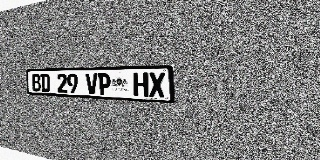plate: (26, 65, 174, 103)
